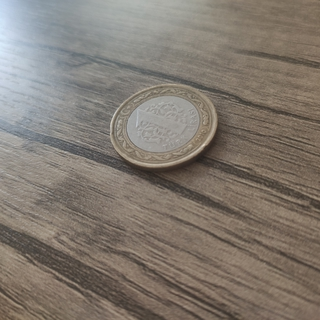1TL: (108, 82, 220, 172)
